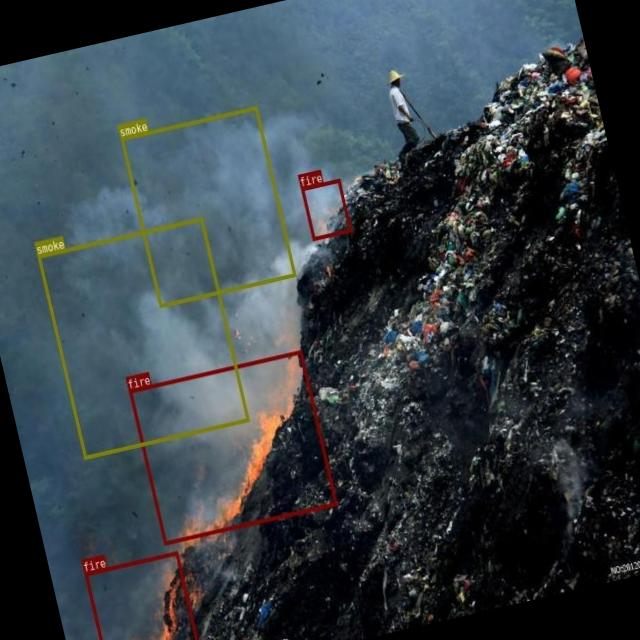fire: (128, 349, 336, 544), (83, 550, 202, 640), (300, 178, 350, 240)
smoke: (36, 216, 249, 459), (120, 106, 296, 307)
